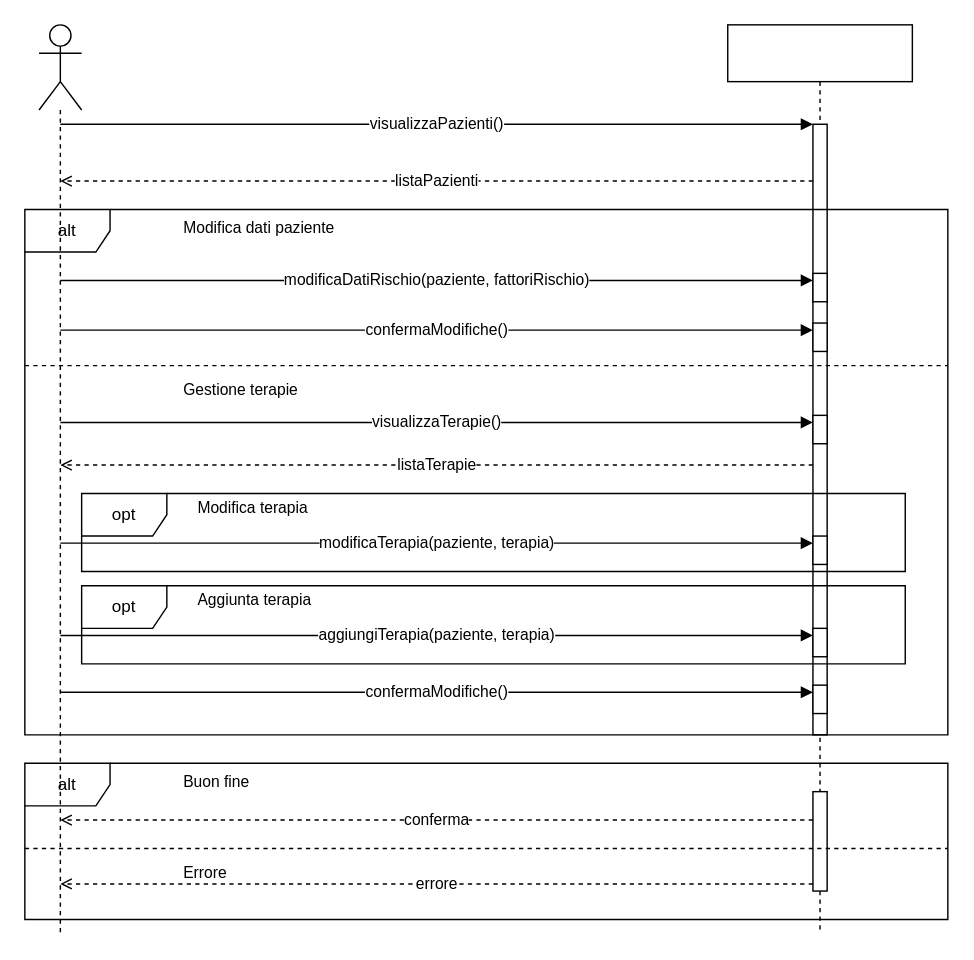
Image size: 974x960. Some labels were removed from this diagram. The shapes that lost their labels are listed below. From the top down, each one's centre as x and y in pixels, then its label:
point 60,66: Medico
point 819,52: Sistema
